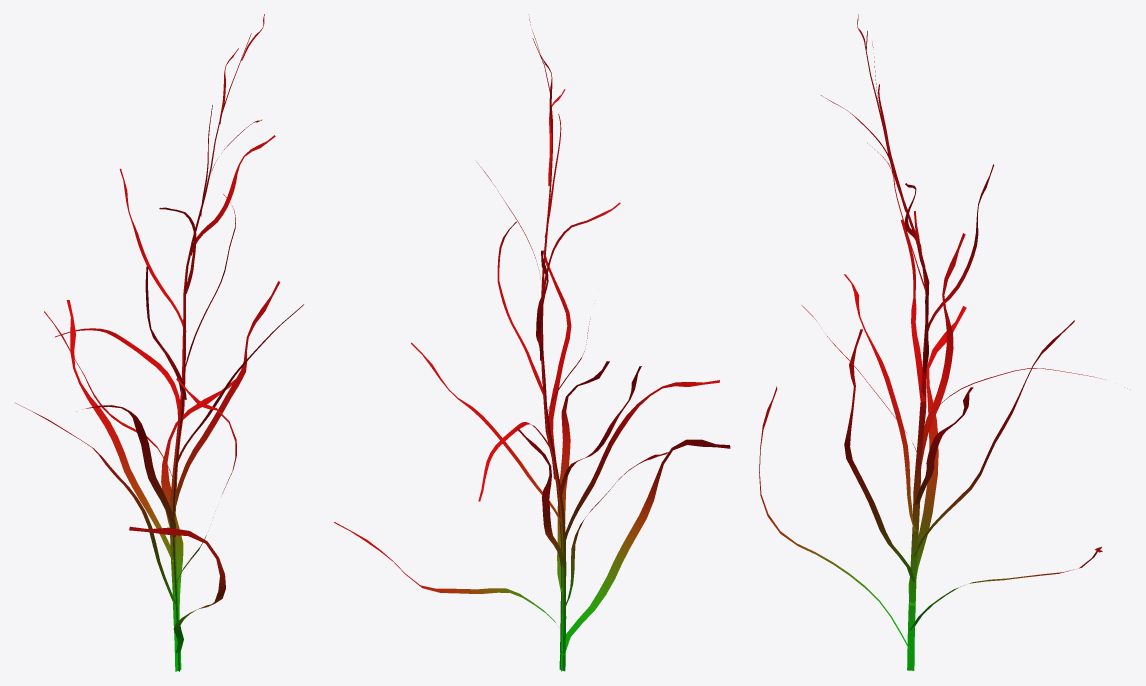
Rendered from Swamp Grass_LOD1_Var9_tefocd1r.fbx.
The picture shows the model from 3 angles, left to right: view 1: azimuth 30°, elevation 25°; view 2: azimuth 150°, elevation 25°; view 3: azimuth 270°, elevation 25°; orthographic projection. The views are drawn at different scales.
Parts seen in each view (by area): view 1: merge1; view 2: merge1; view 3: merge1.
Boxes of the visible parts, x1,y1,x2,y2 form: merge1: [15, 14, 303, 671]; merge1: [334, 14, 730, 671]; merge1: [759, 14, 1127, 670].
Bounding box in the file's own units: 23.02 × 50.47 × 24.78.
